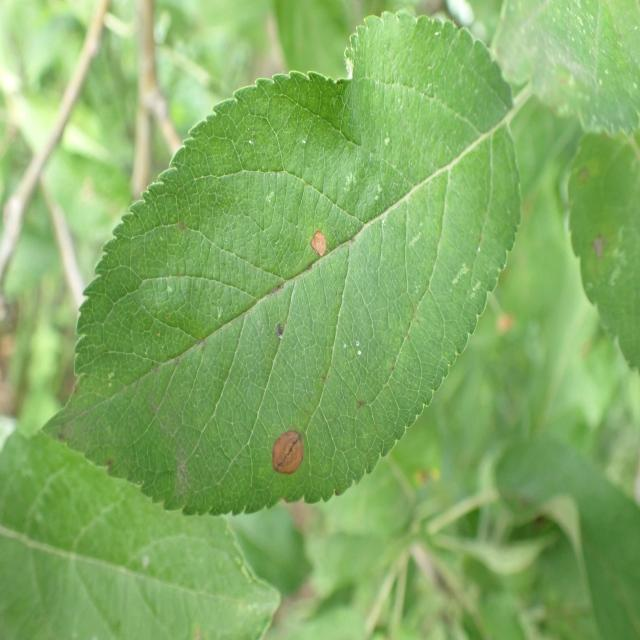frog-eye-leaf-spot: (39, 9, 522, 520)
